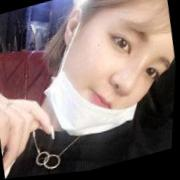WRONG: (45, 1, 179, 143)
